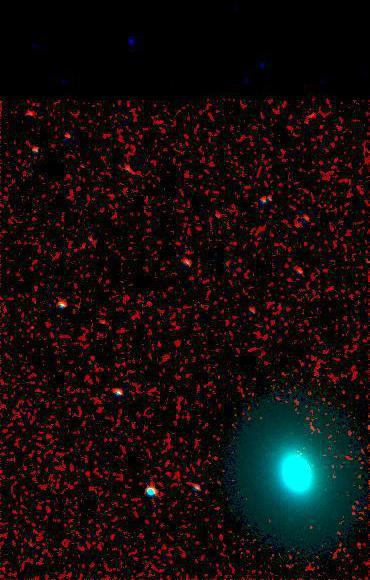star: (16, 314, 46, 344)
